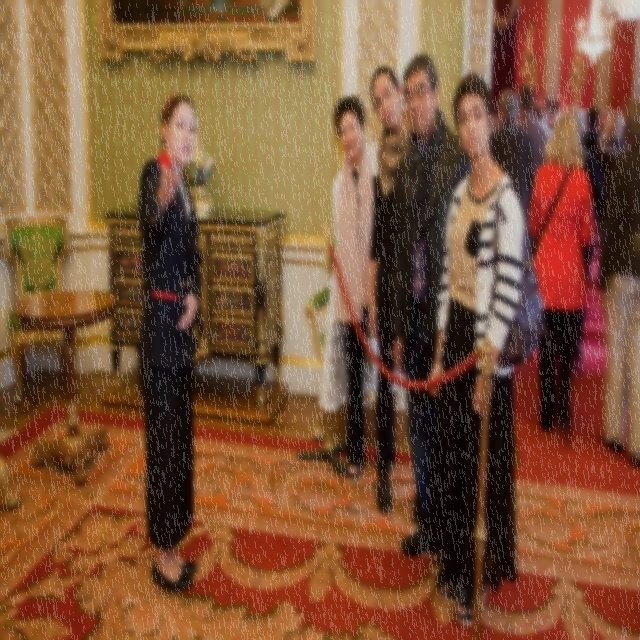pessoa: (426, 69, 528, 621), (387, 49, 469, 552), (132, 84, 207, 599), (318, 90, 394, 482), (364, 62, 422, 529), (528, 110, 596, 437), (597, 98, 640, 466), (488, 89, 536, 242), (514, 84, 548, 180), (578, 104, 628, 168), (573, 239, 594, 377)
